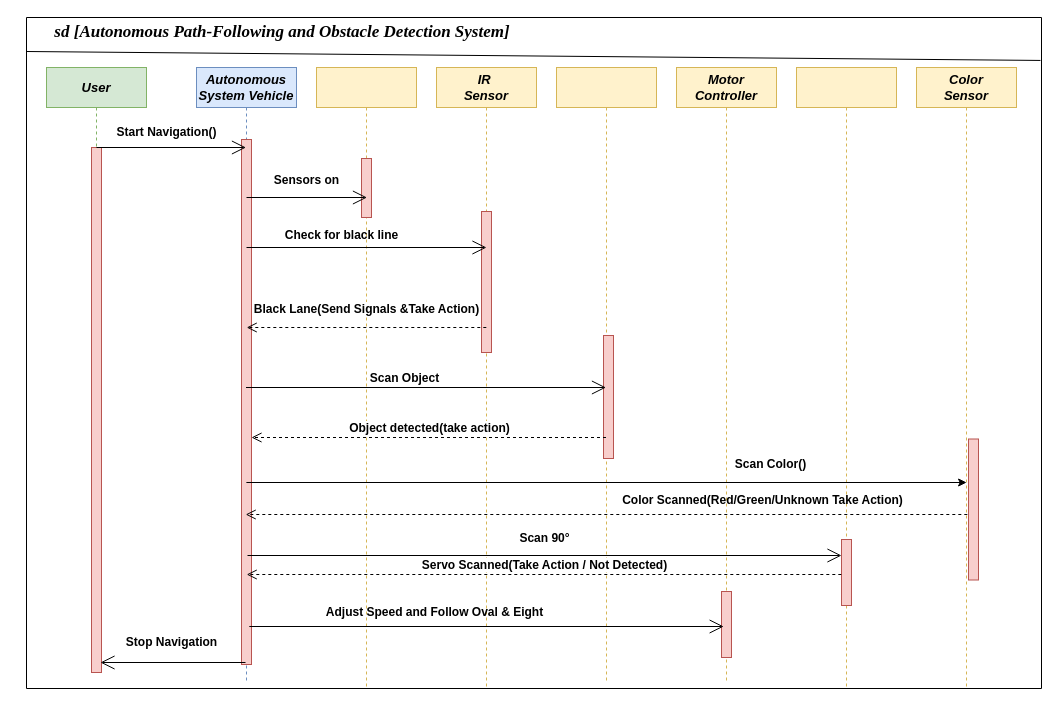
The diagram is 1059 pixels wide and 706 high, and some of its shapes have lost their labels. The box of each missing label's shape, as (x1, y1, x2, y2) in pixels:
Sensors Module: (316, 66, 416, 688)
Servo Motor: (796, 66, 896, 688)
Ultrasonic sensor: (556, 66, 656, 684)
